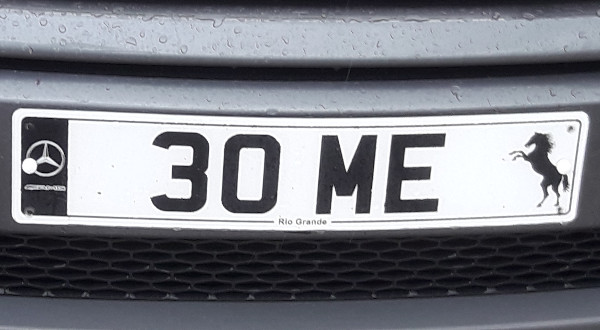license_plate: (10, 109, 589, 233)
